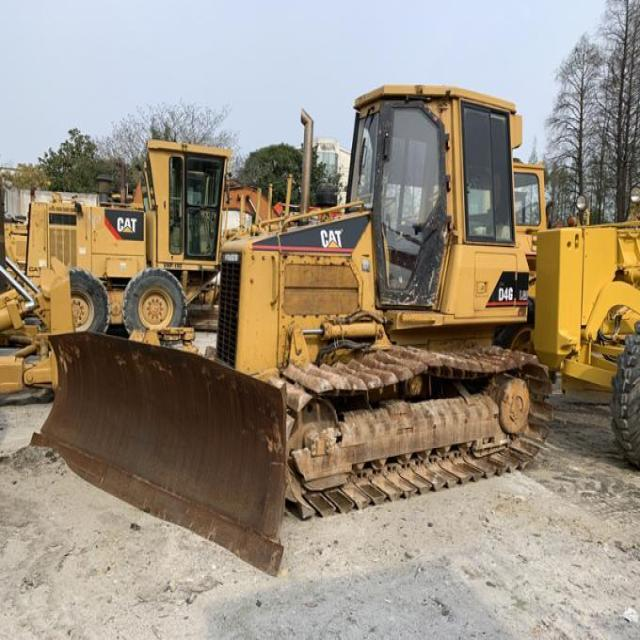buldozerpayloadergrader: (48, 46, 592, 544)
